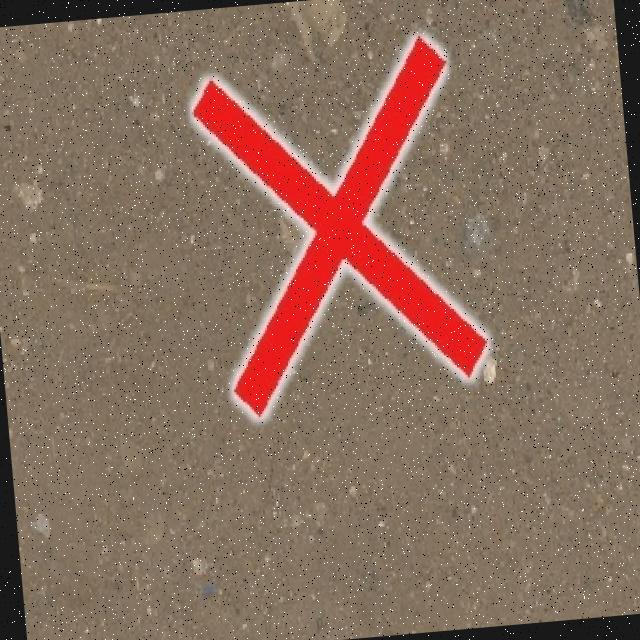x_marker: (188, 34, 490, 418)
